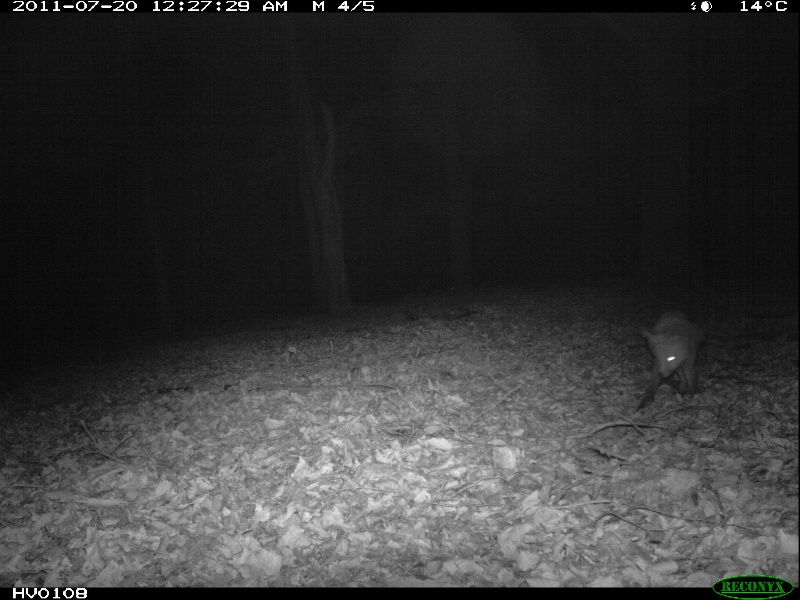fox: (633, 308, 712, 413)
